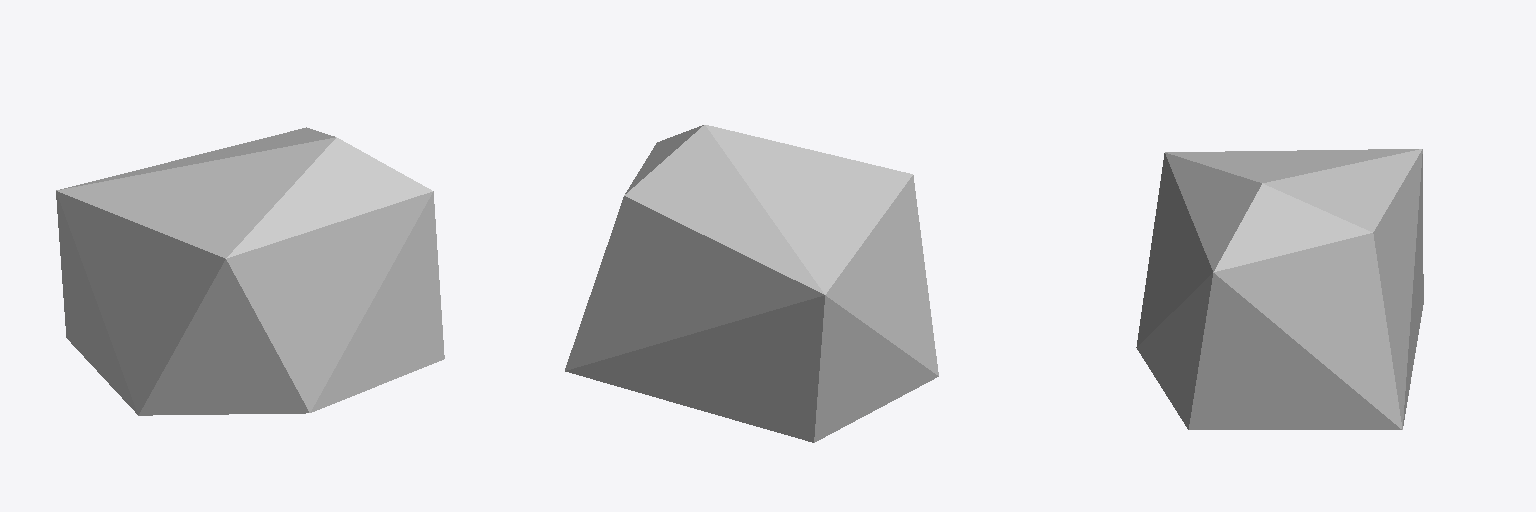
File: sharprockfree_low.obj
3 renders of one model, left to right at view 1: azimuth 30°, elevation 25°; view 2: azimuth 150°, elevation 25°; view 3: azimuth 270°, elevation 25°, orthographic.
Bounding box in the file's own units: 104 × 74.3 × 89.86.